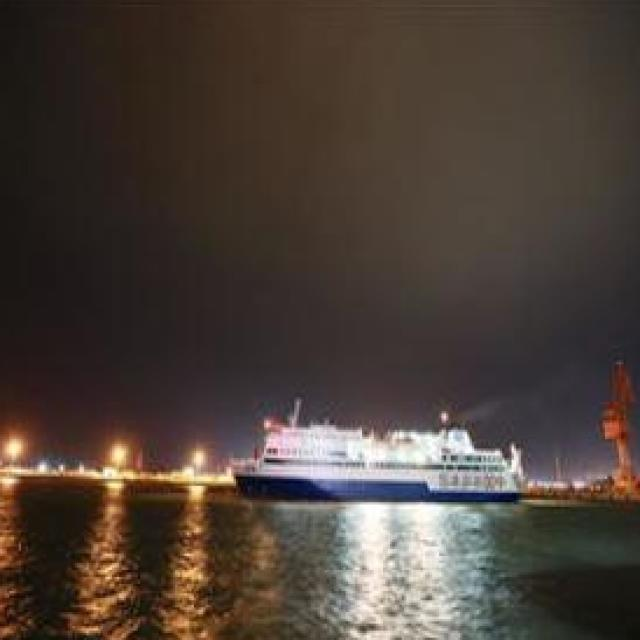passenger ship: (227, 412, 526, 500)
